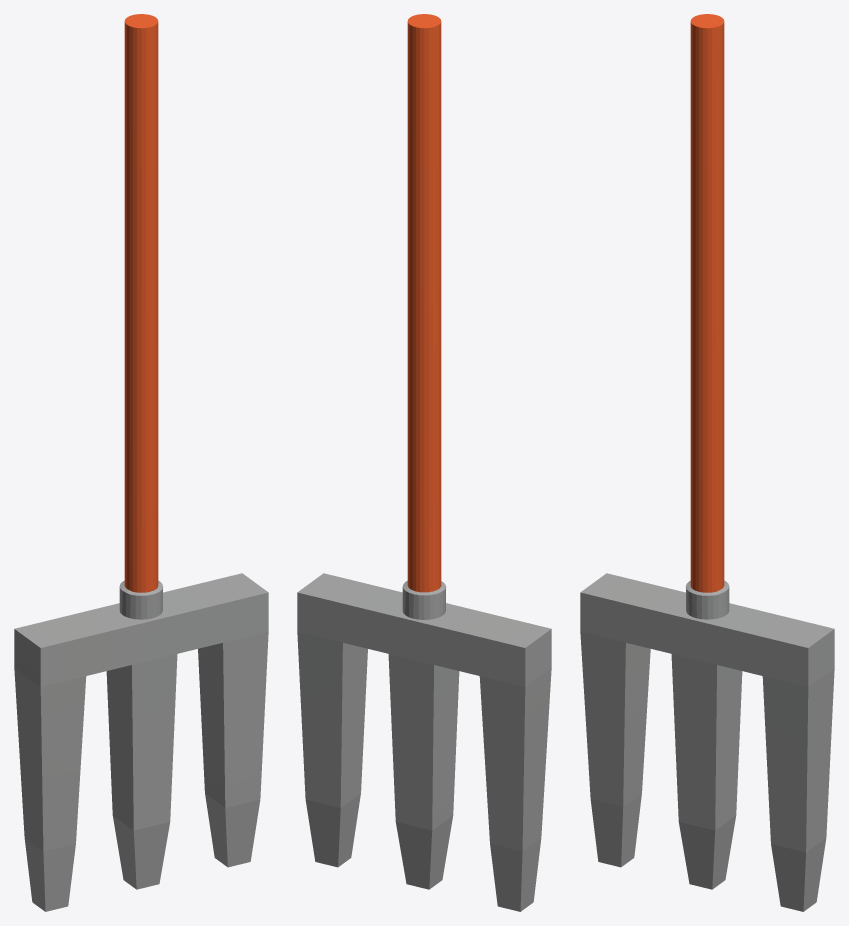
File: Garfo.fbx
The picture shows the model from 3 angles, left to right: view 1: azimuth 30°, elevation 25°; view 2: azimuth 150°, elevation 25°; view 3: azimuth 330°, elevation 25°; orthographic projection.
Parts seen in each view (by area): view 1: Garfo; view 2: Garfo; view 3: Garfo.
Part boxes in pixels (x1=…): Garfo: x1=14, y1=14, x2=268, y2=911; Garfo: x1=297, y1=14, x2=551, y2=911; Garfo: x1=580, y1=14, x2=834, y2=911.
Bounding box in the file's own units: 149 × 537 × 29.79.
1 material, 1 textured.
